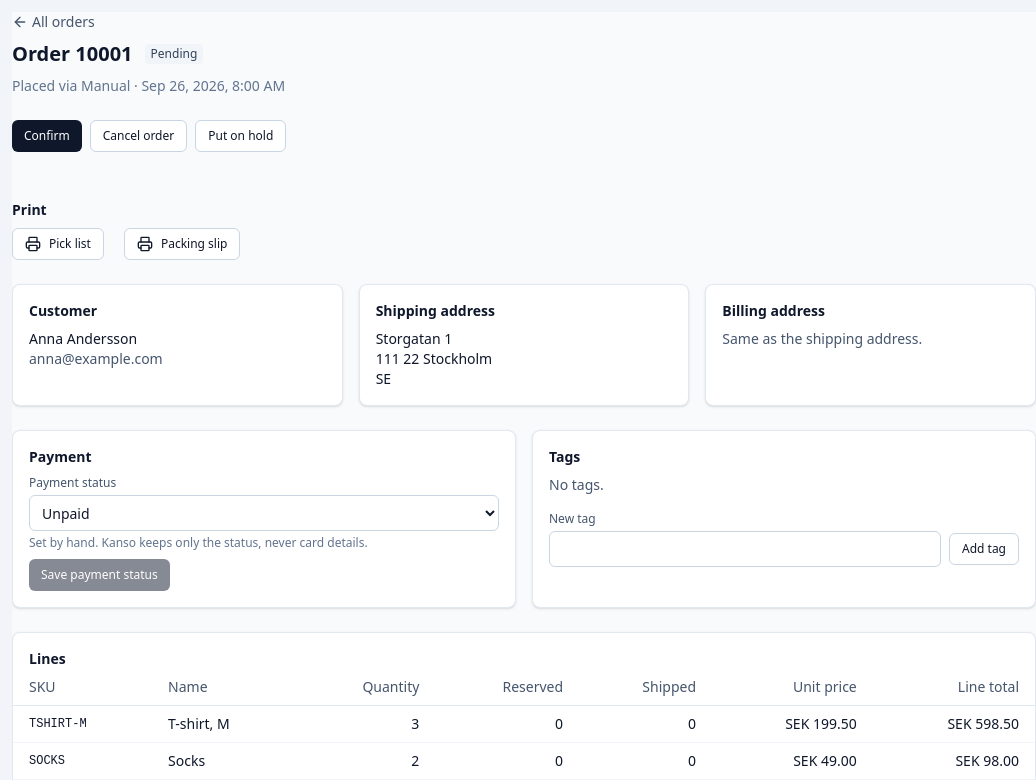
the order detail › moves the order with the version it was shown at
Step 1. Click the button "Confirm" → {"x": 47, "y": 136}, box [12,120,82,152]
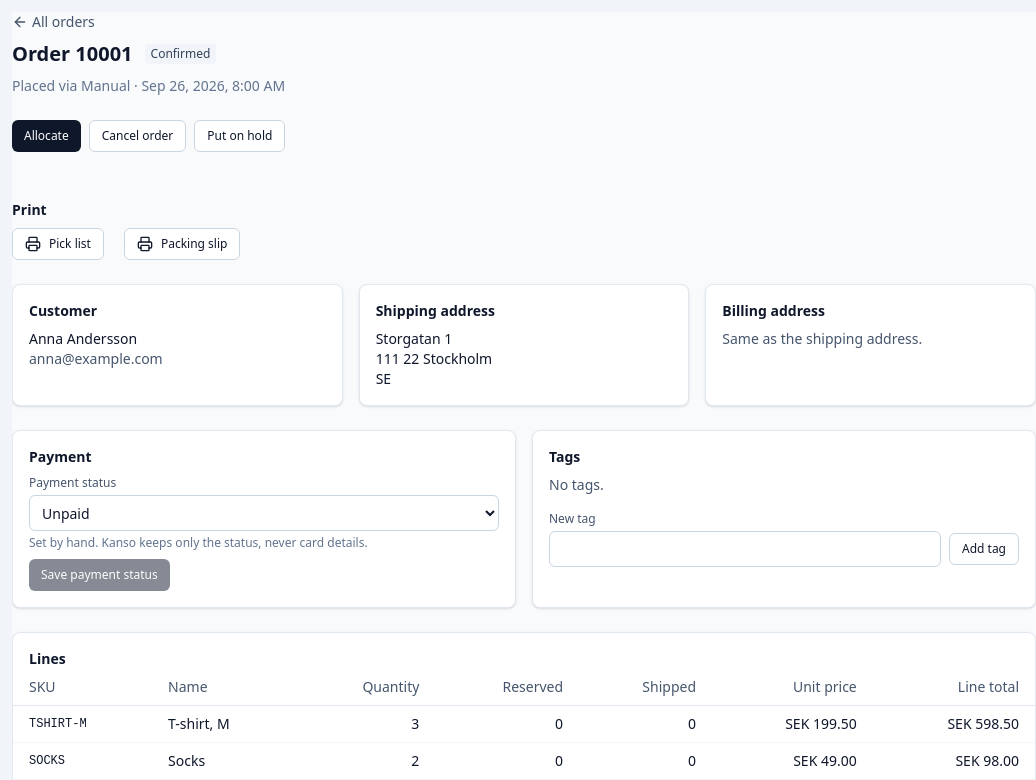
Now the button "Allocate" is shown, box [12,120,81,152]
